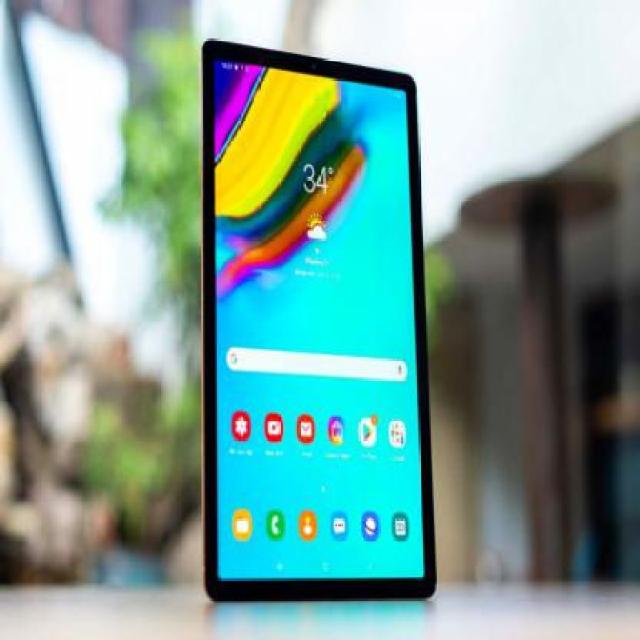tablet: (181, 30, 447, 602)
